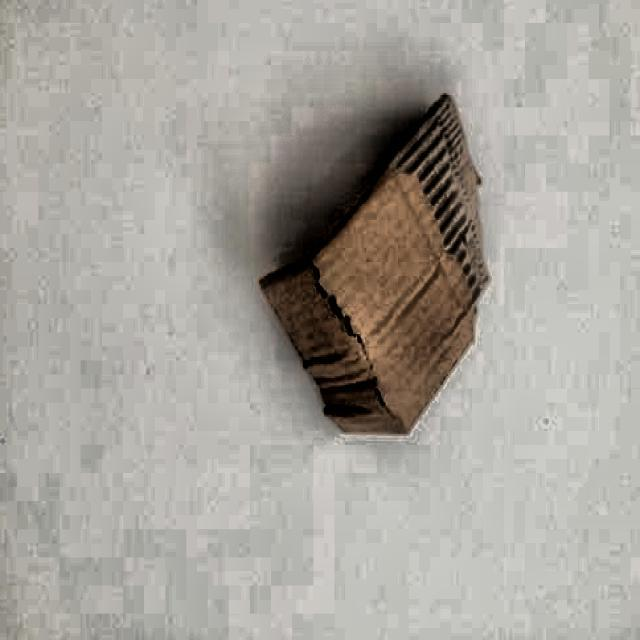cardboard: (259, 92, 492, 434)
